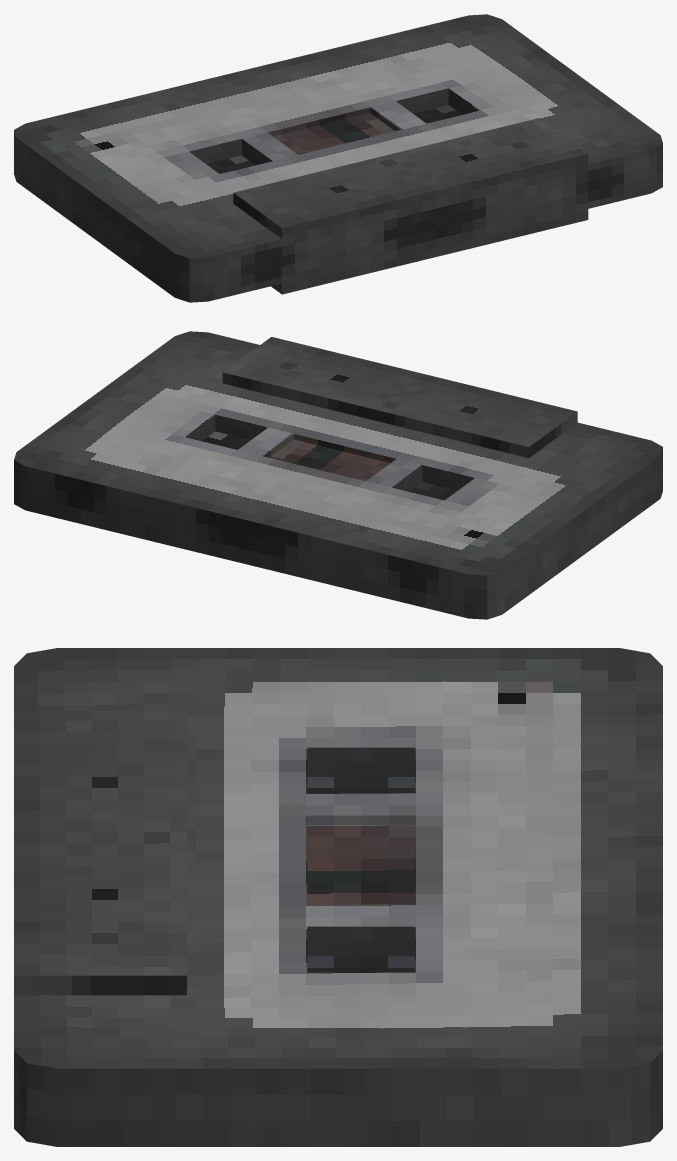
File: cassette_tape_2.fbx
3 renders of one model, top to bottom at view 1: azimuth 30°, elevation 25°; view 2: azimuth 150°, elevation 25°; view 3: azimuth 270°, elevation 25°, orthographic. The views are drawn at different scales.
Parts seen in each view (by area): view 1: cassette_tape_2; view 2: cassette_tape_2; view 3: cassette_tape_2.
Part boxes in pixels (bbox=[...]): cassette_tape_2: bbox=[14, 14, 662, 302]; cassette_tape_2: bbox=[14, 331, 662, 619]; cassette_tape_2: bbox=[14, 648, 662, 1146].
Bounding box in the file's own units: 16.56 × 2.16 × 10.8.
